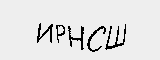И: (35, 23, 54, 44)
Н: (66, 22, 83, 51)
Р: (54, 22, 66, 44)
С: (83, 21, 105, 54)
Ш: (108, 23, 127, 50)
